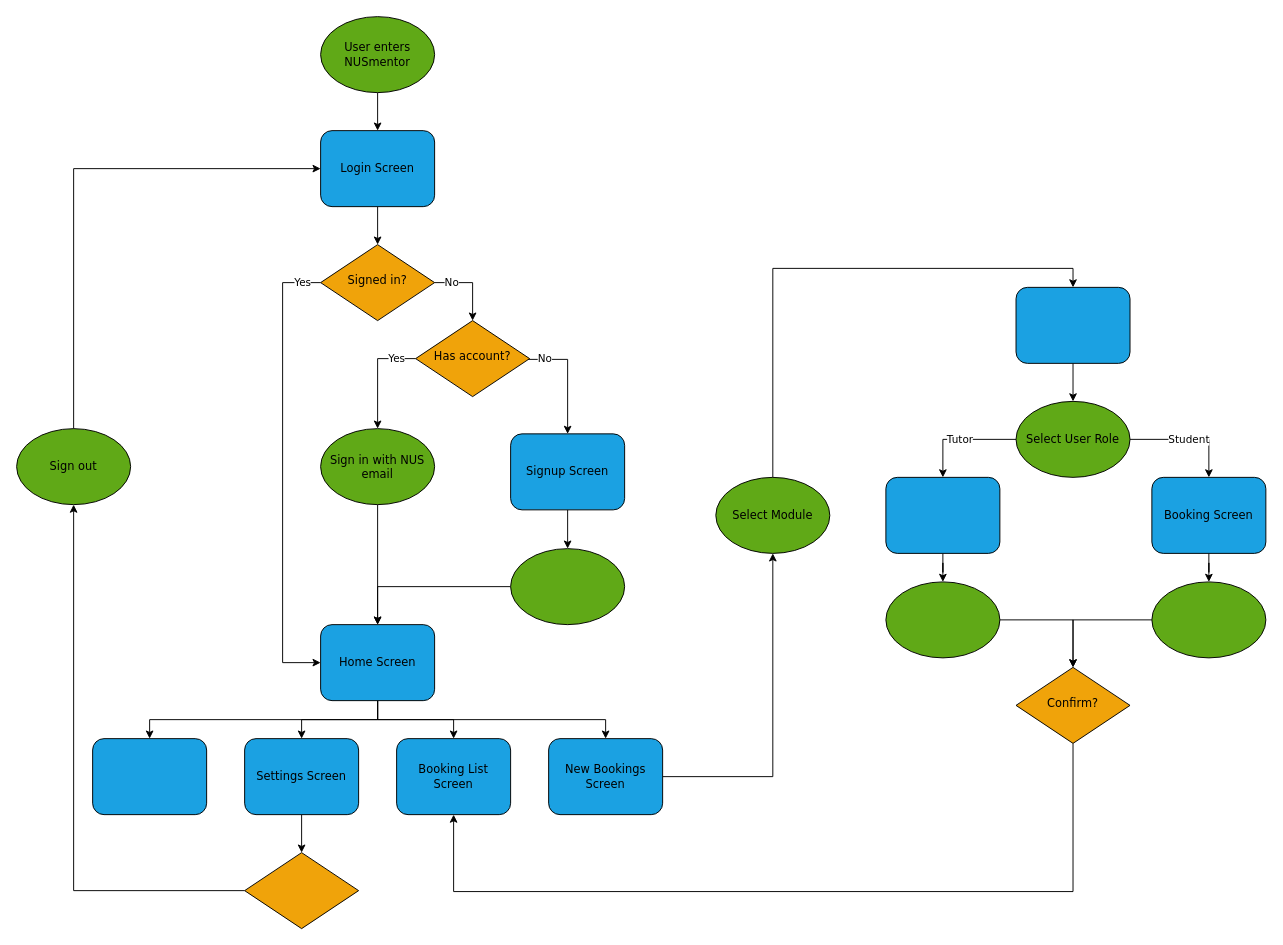
Some shapes in this 1283 by 945 pixel diagram are drawn without their labels. Here are the shapes that lost their labels. From the top down, the box of each, then its label:
(1015, 286, 1130, 363): Booking Pop Up Screen
(885, 476, 1000, 553): Set Availability Screen
(510, 548, 625, 625): Sign up with NUS email
(885, 581, 1000, 658): Select Date, Time and Duration
(1151, 581, 1266, 658): Select Consultation Slot
(92, 738, 207, 815): Released Slots Screens
(244, 852, 359, 929): Sign out?
